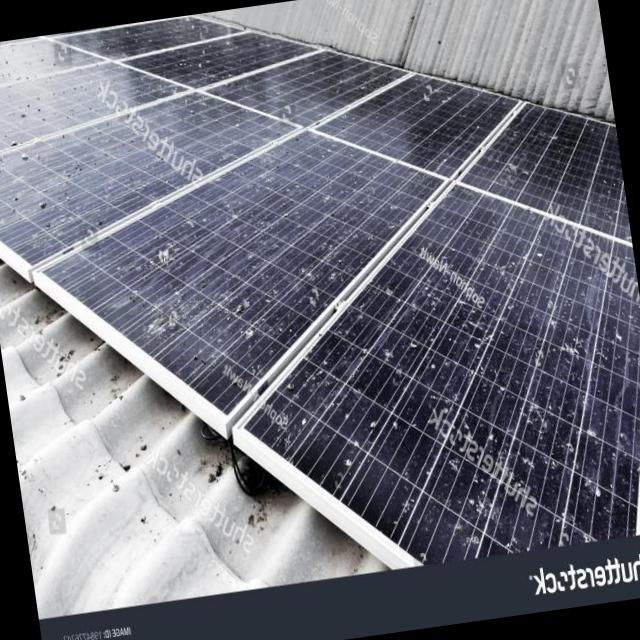faulty: (243, 185, 640, 572), (51, 134, 440, 415), (0, 94, 286, 264), (467, 109, 633, 246), (316, 75, 509, 178), (0, 65, 181, 154), (210, 51, 397, 126), (120, 31, 313, 93)
